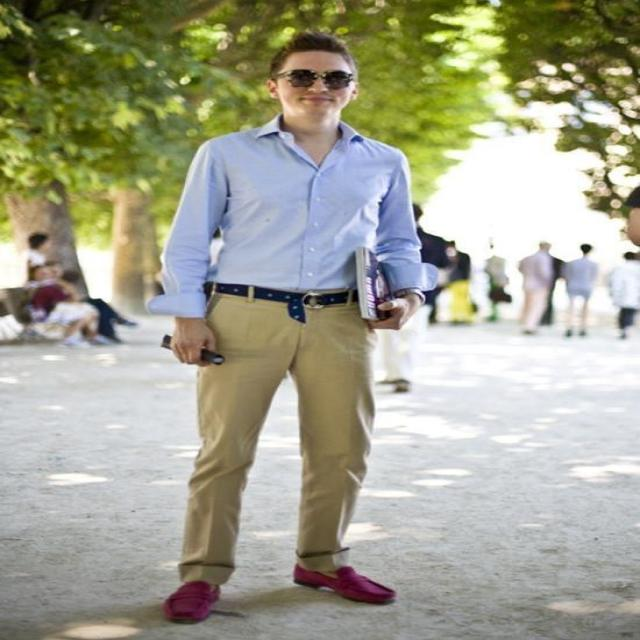pants: (177, 282, 376, 584)
shirt: (149, 111, 436, 320)
